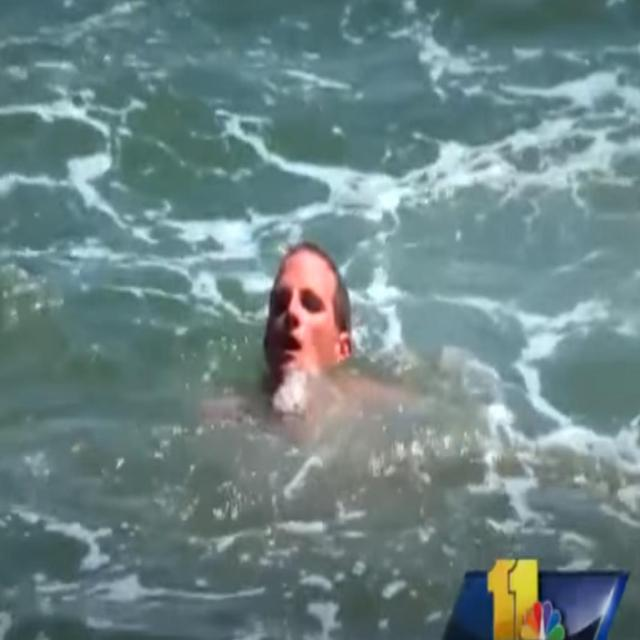Out of Water: (255, 230, 361, 407)
